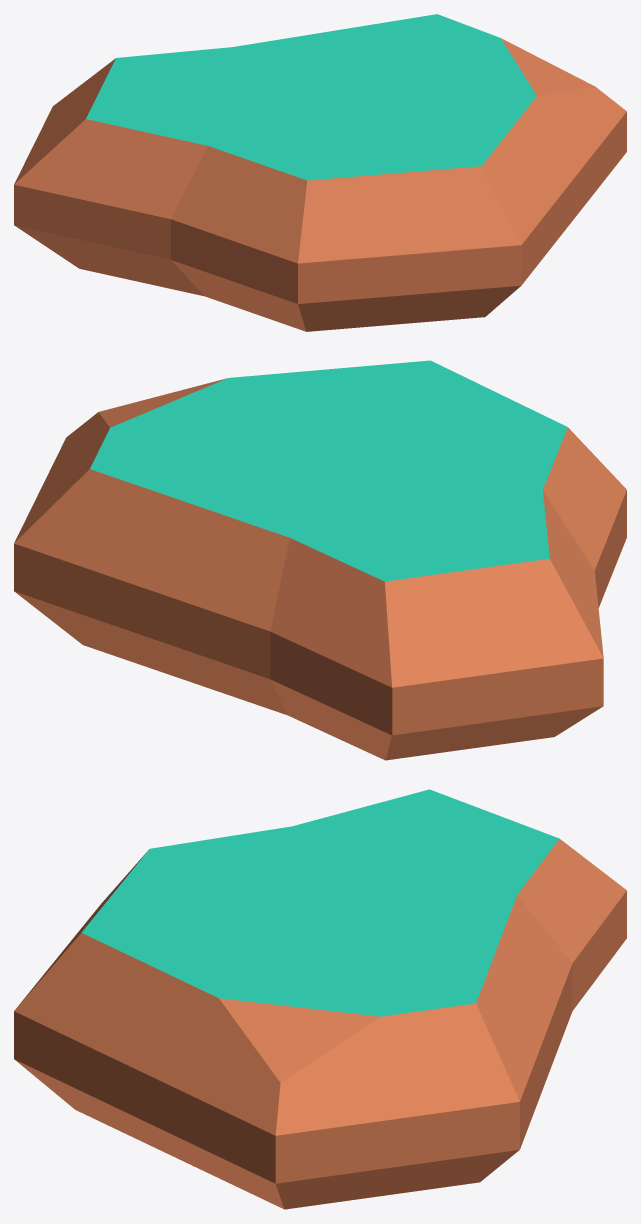
The model's file is rock_largeE.dae.
3 renders of one model, top to bottom at view 1: azimuth 30°, elevation 25°; view 2: azimuth 150°, elevation 25°; view 3: azimuth 270°, elevation 25°, orthographic. The views are drawn at different scales.
Visible parts, largest first — view 1: rock_largeE; view 2: rock_largeE; view 3: rock_largeE.
Part boxes in pixels (x1=…): rock_largeE: x1=14, y1=14, x2=626, y2=331; rock_largeE: x1=14, y1=360, x2=626, y2=760; rock_largeE: x1=14, y1=789, x2=626, y2=1209.
Size of the model in its own units: 1.1 by 0.2922 by 0.9199.
